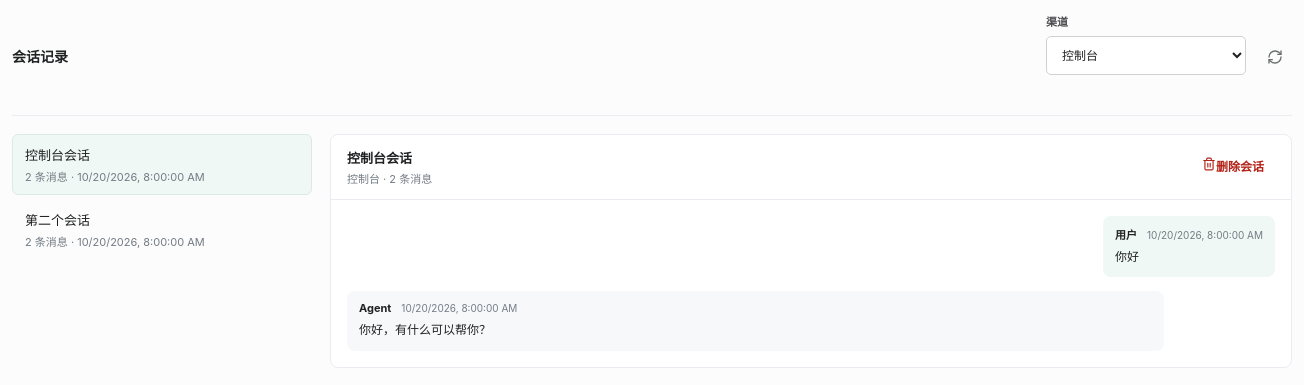
Test: Application conversations › clears the previous conversation messages on a failed selection and recovers on refresh
Click the button "第二个会话 2 条消息 · 10/20/2026, 8:00:00 AM": click(58, 220) [12,199,312,260]
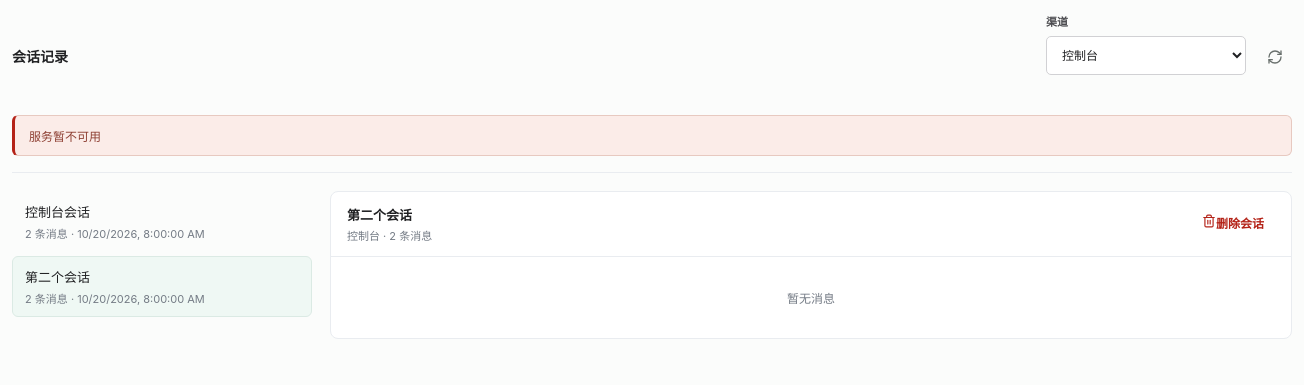
Now the message "服务暂不可用" is shown, box [12,115,1292,156]
Now the text "你好，有什么可以帮你？" is gone
Now the header shows "第二个会话", box [347,207,412,223]
Click the button named "刷新会话": click(1275, 58) [1258,41,1292,75]
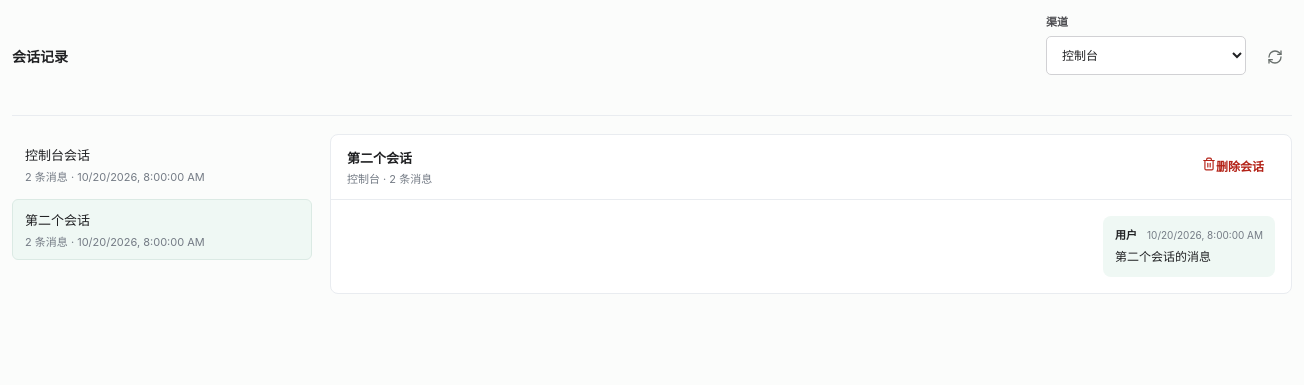
Now the text "第二个会话的消息" is shown, box [1115,249,1211,264]
Now the message "服务暂不可用" is gone
